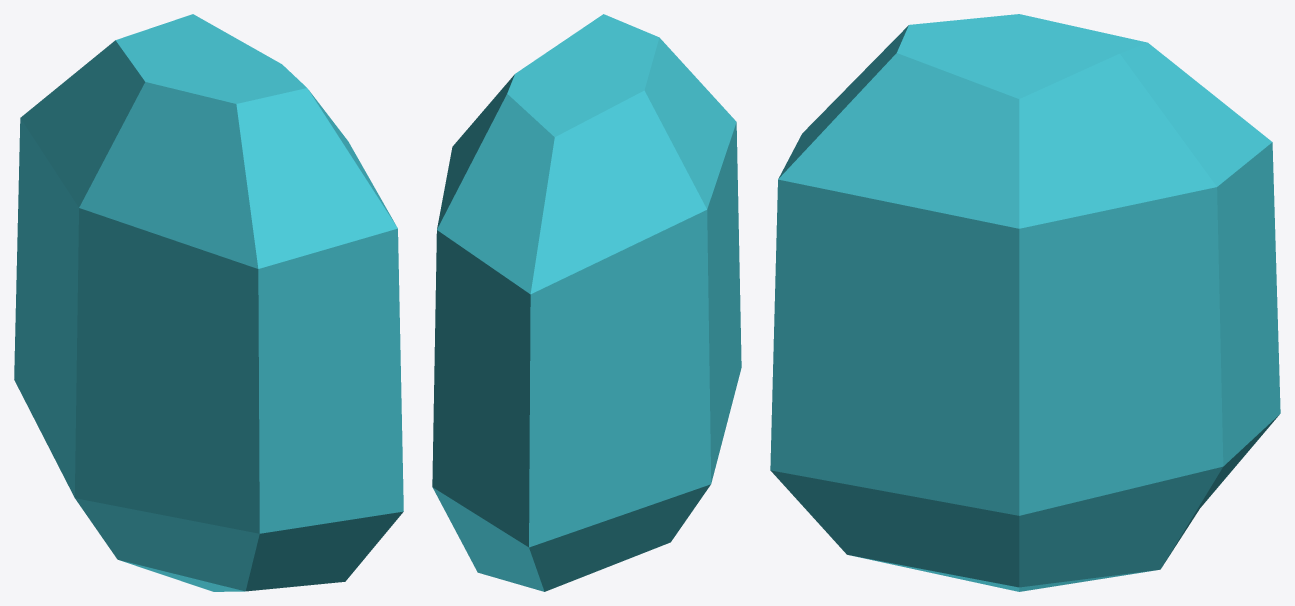
Rendered from SM_Aquamarine_Flawed.fbx.
The picture shows the model from 3 angles, left to right: view 1: azimuth 30°, elevation 25°; view 2: azimuth 150°, elevation 25°; view 3: azimuth 270°, elevation 25°; orthographic projection. The views are drawn at different scales.
Parts seen in each view (by area): view 1: SM_Aquamarine_Flawed; view 2: SM_Aquamarine_Flawed; view 3: SM_Aquamarine_Flawed.
Part boxes in pixels (x1,y1,x2,y2): SM_Aquamarine_Flawed: [14, 14, 403, 591]; SM_Aquamarine_Flawed: [432, 14, 741, 591]; SM_Aquamarine_Flawed: [770, 14, 1280, 591].
Size of the model in its own units: 9.36 by 14.42 by 17.35.
